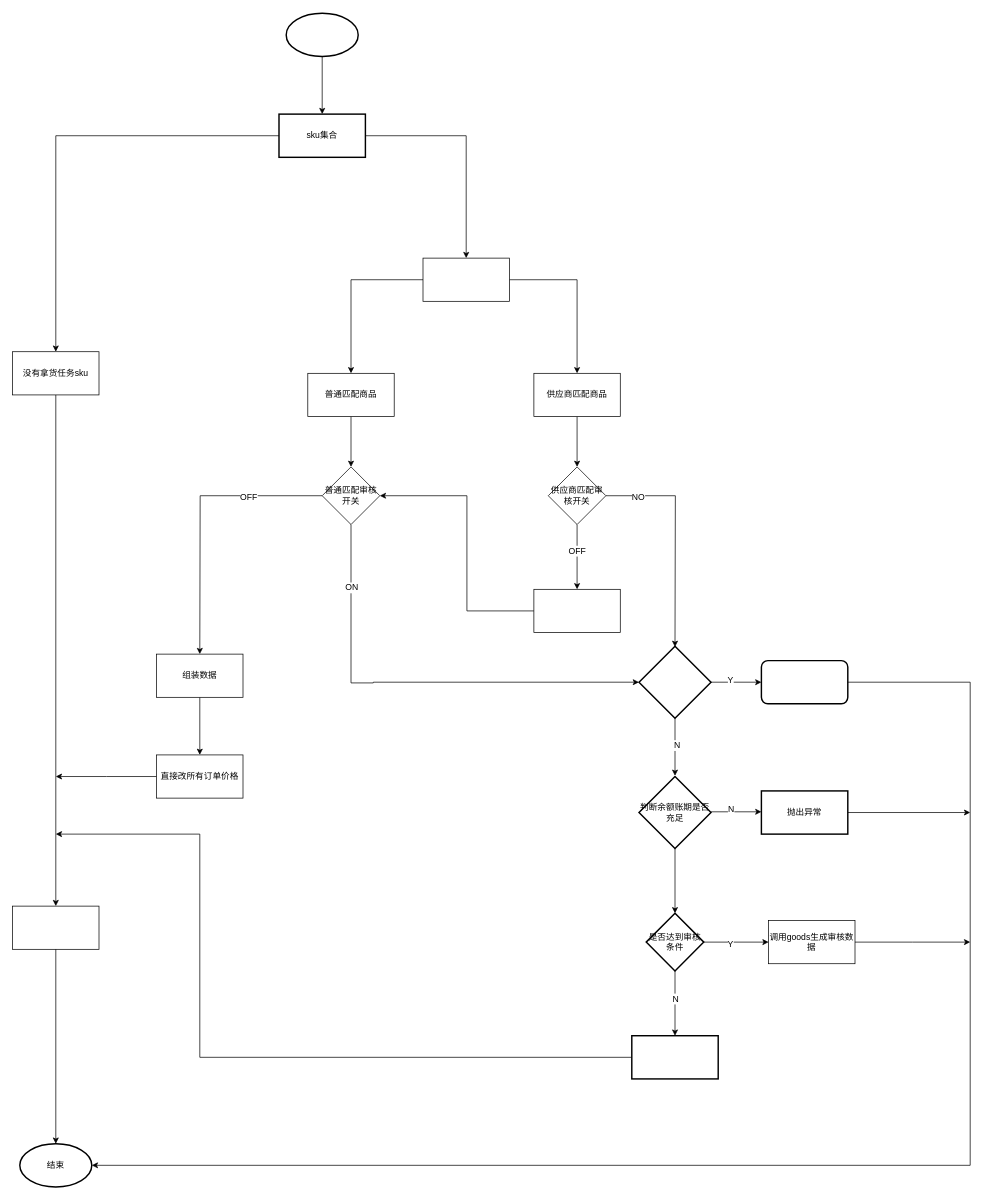
Image size: 989x1200. Some labels were removed from this diagram. Here are the shapes that lost their labels. From the top down, the box of each, then its label:
(285, 12, 359, 57): 开始 app发起请求
(422, 257, 509, 301): 有拿货任务sku
(533, 589, 620, 633): 走普通匹配逻辑
(638, 645, 711, 719): 判断改价后金额是否小于0
(760, 660, 848, 704): 抛出小于0错误
(12, 905, 99, 949): 调用goods进行 商品改价
(631, 1035, 719, 1079): 改所有订单商品价格
